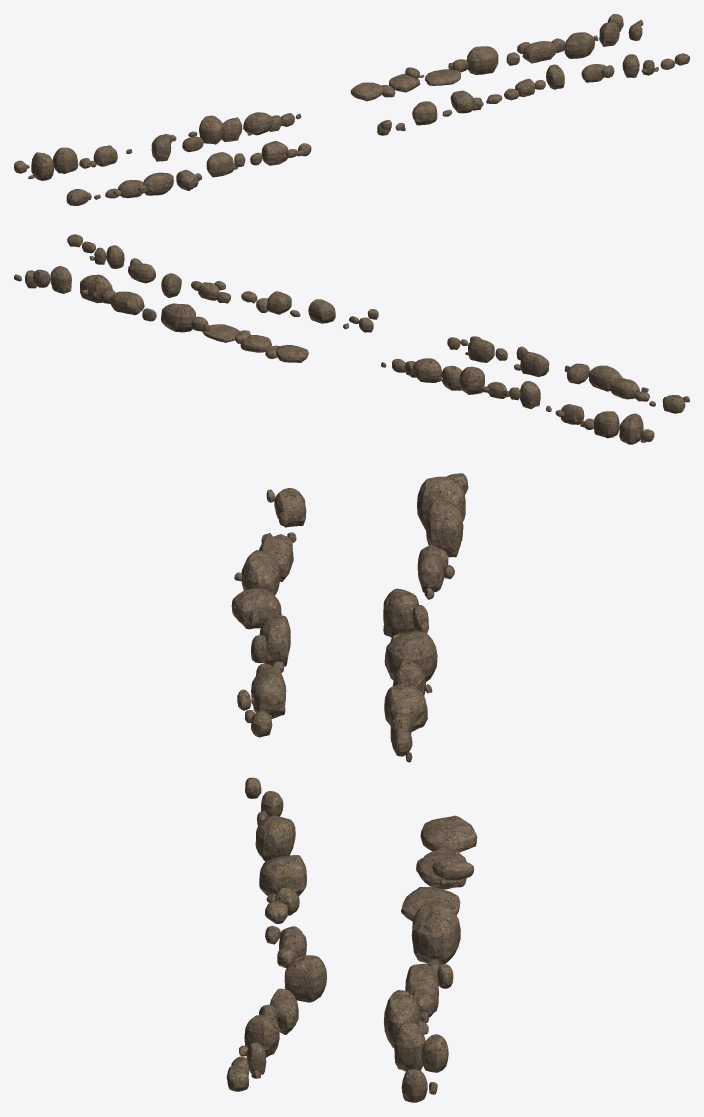
The model's file is RiverbankWeathered.glb.
3 renders of one model, top to bottom at view 1: azimuth 30°, elevation 25°; view 2: azimuth 150°, elevation 25°; view 3: azimuth 270°, elevation 25°, orthographic. The views are drawn at different scales.
Visible parts, largest first — view 1: Valoria retained riverbank / sculpted weathered edges; view 2: Valoria retained riverbank / sculpted weathered edges; view 3: Valoria retained riverbank / sculpted weathered edges.
Part boxes in pixels (<box>): Valoria retained riverbank / sculpted weathered edges: <box>14,14,689,205</box>; Valoria retained riverbank / sculpted weathered edges: <box>14,234,689,444</box>; Valoria retained riverbank / sculpted weathered edges: <box>226,473,477,1102</box>.
Bounding box in the file's own units: 135 × 5.69 × 23.55.
1 material, 1 textured.
